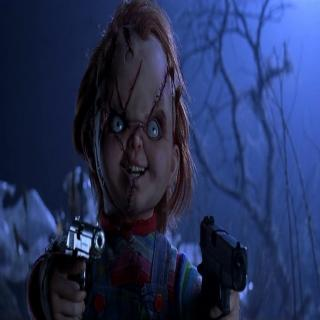gun: (195, 212, 250, 320), (59, 212, 108, 319)
